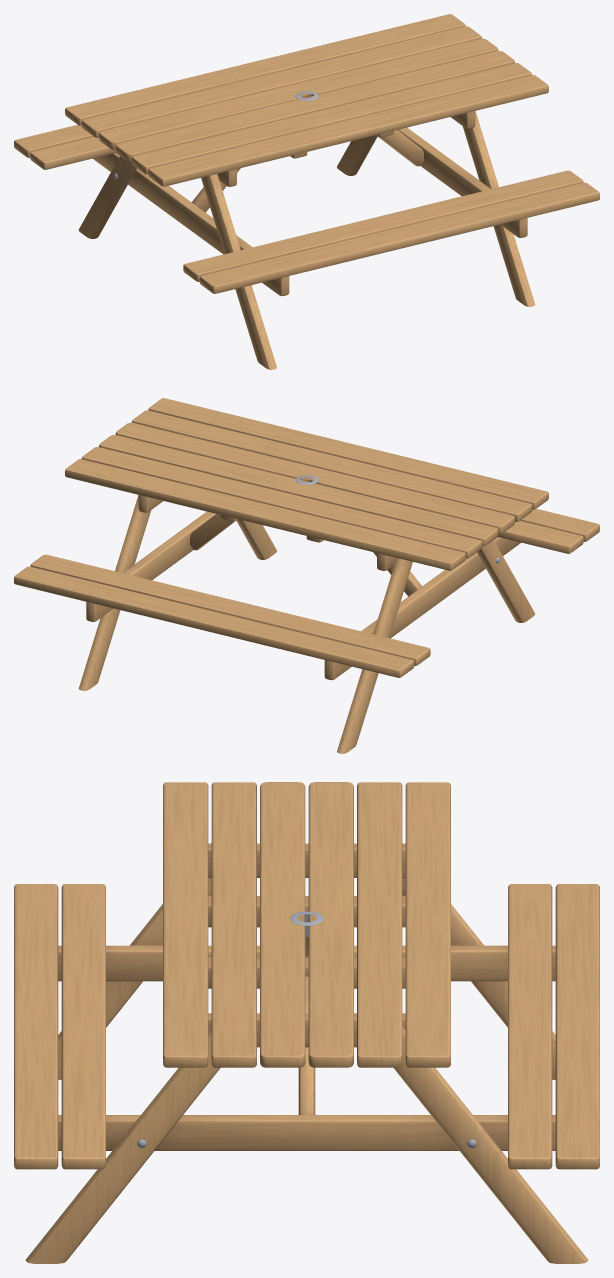
File: picnic_table.glb
3 views of the same model, one above another, from view 1: azimuth 30°, elevation 25°; view 2: azimuth 150°, elevation 25°; view 3: azimuth 270°, elevation 25° (orthographic). The views are drawn at different scales.
Visible parts, largest first — view 1: picnic-table_body; view 2: picnic-table_body; view 3: picnic-table_body.
Boxes of the visible parts, x1,y1,x2,y2 form: picnic-table_body: [14, 14, 599, 369]; picnic-table_body: [14, 398, 599, 753]; picnic-table_body: [14, 782, 599, 1263].
Bounding box in the file's own units: 1.8 × 0.7632 × 1.62.
1 material, 1 textured.
